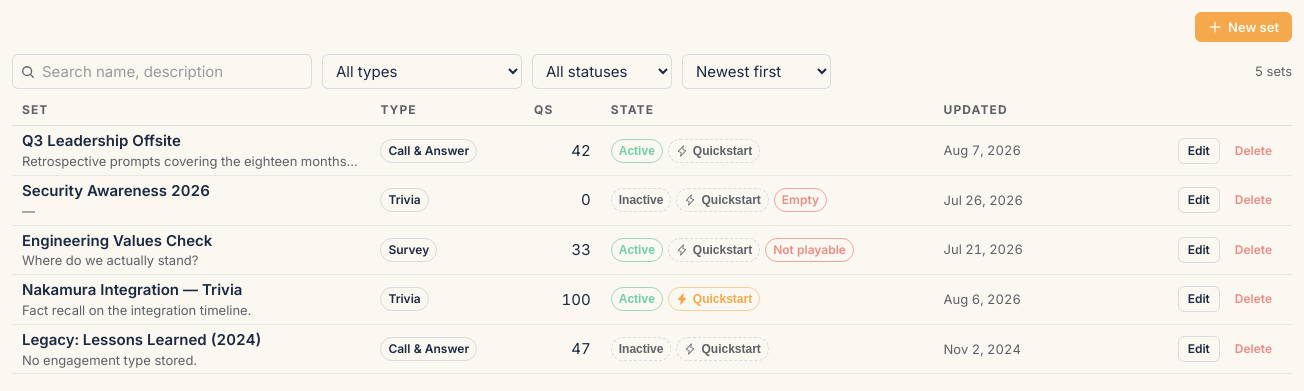
Test: nothing matches, which is a different state with different exits › it counts the result of dropping each filter individually
In the search field labelled "Search name, description": (162, 72) [12,54,312,89], type "nakamura"
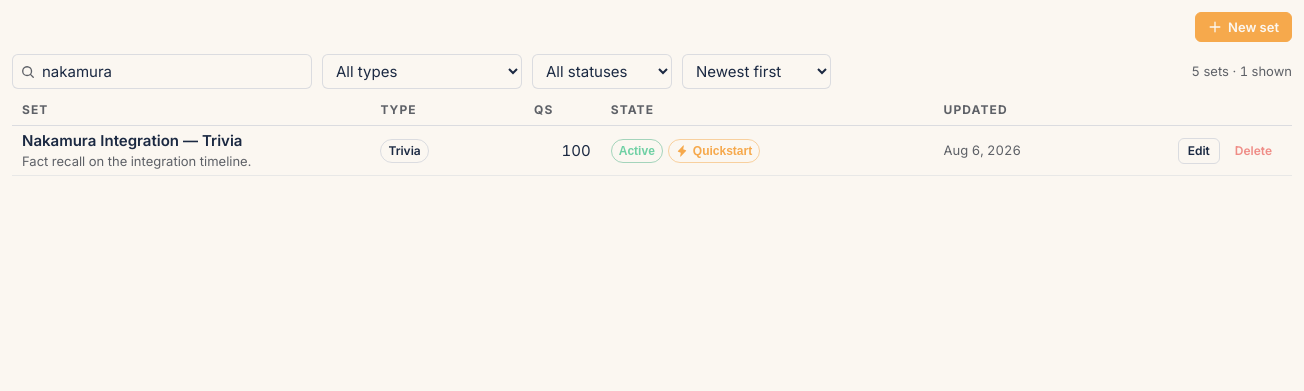
Select "Trivia" in the dropdown named "engagement type": (422, 72) [322,54,522,89]
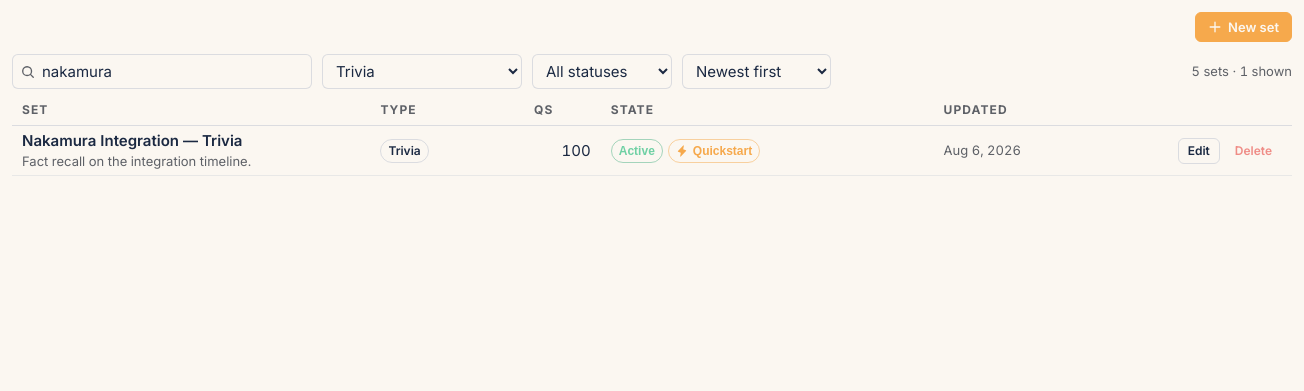
Select "Inactive" in the dropdown named "status": (602, 72) [532,54,672,89]
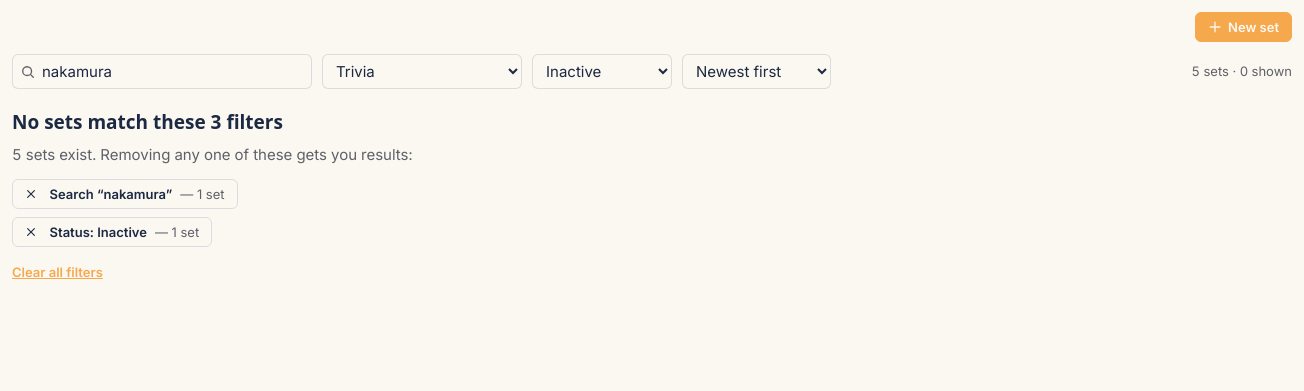
Result: the heading "No sets match these 3 filters" is shown at [12,109,283,135]
Result: the button "Search “nakamura” — 1 set" is shown at [12,179,238,209]
Result: the button "Status: Inactive — 1 set" is shown at [12,217,212,247]
